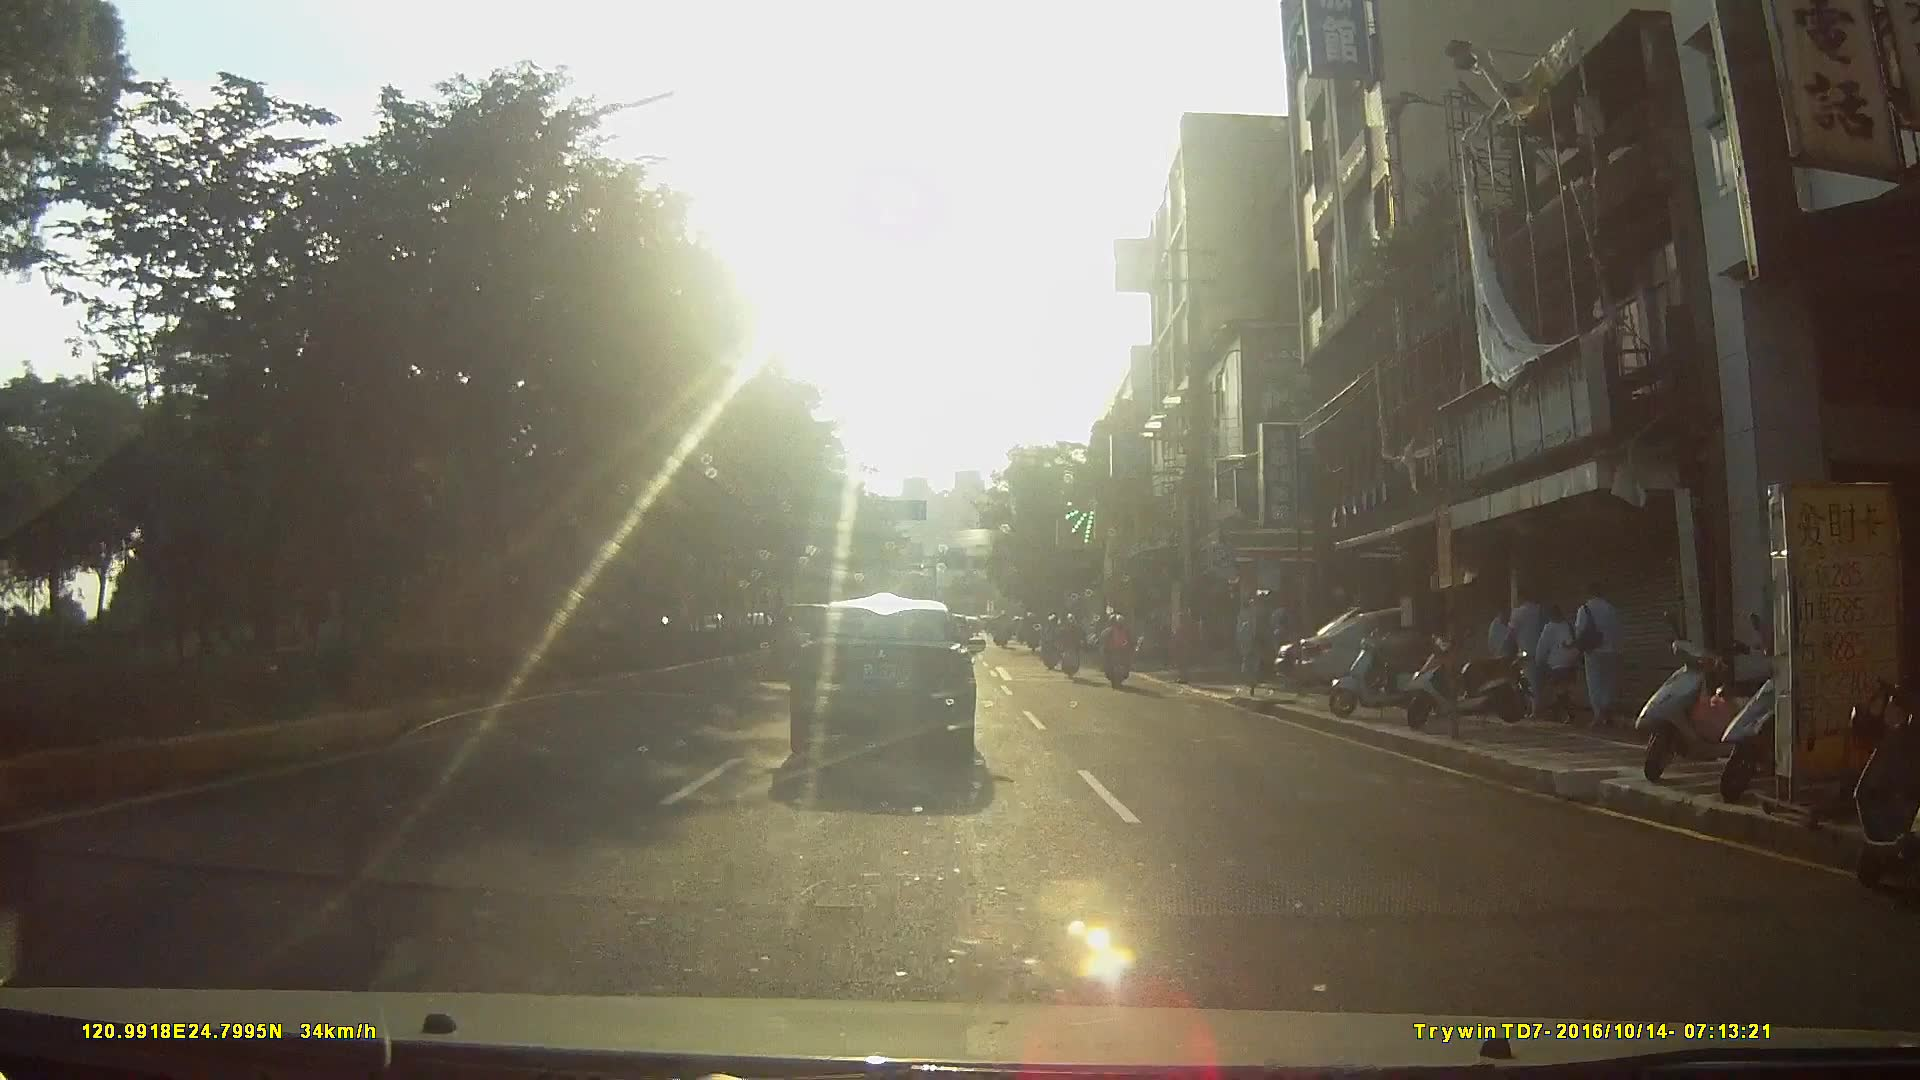pedestrian: (1570, 576, 1619, 725), (1532, 601, 1587, 719), (1504, 582, 1547, 706), (1234, 602, 1265, 699)
rider: (1103, 614, 1138, 694), (1058, 613, 1086, 681), (1040, 616, 1063, 674)
vehicle: (784, 598, 995, 789), (1298, 593, 1554, 700)
